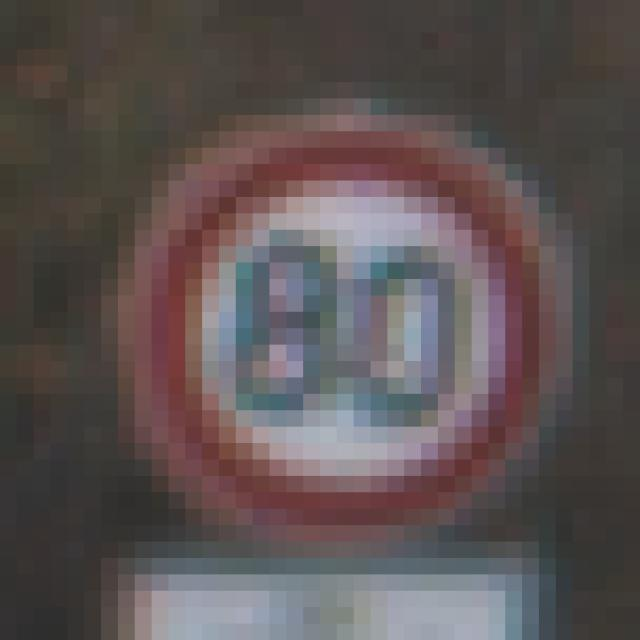Ograniczenie predkosci do 80: (138, 123, 556, 540)
